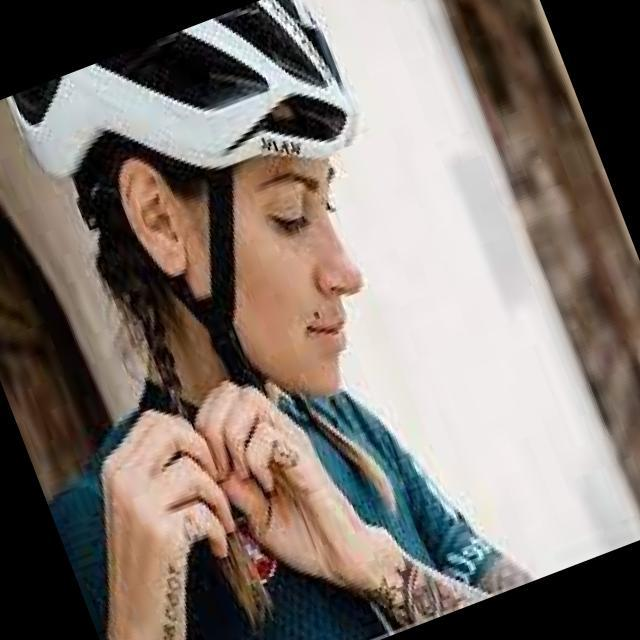WITH_HELMET: (8, 0, 364, 260)
